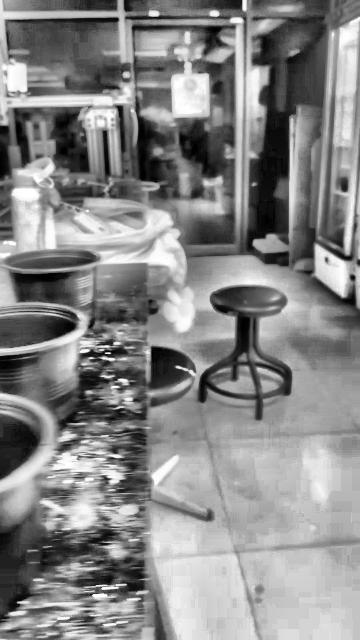pot: (0, 395, 57, 618), (0, 302, 85, 426), (3, 249, 100, 327)
